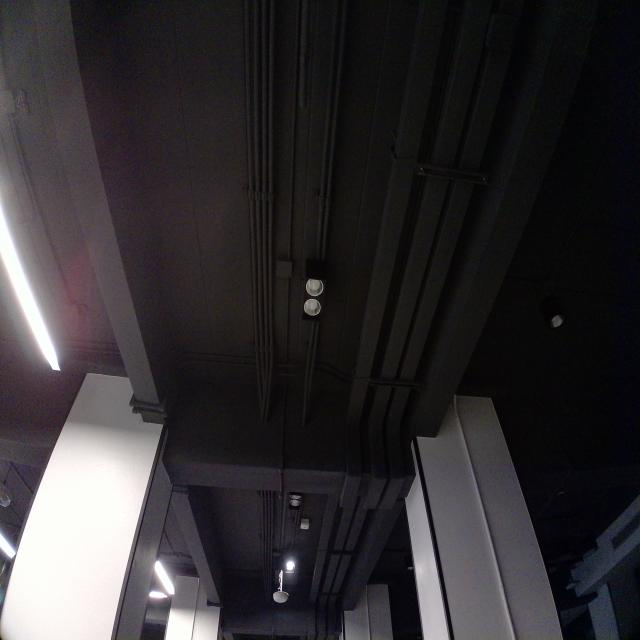lamp1_off: (293, 255, 338, 340)
